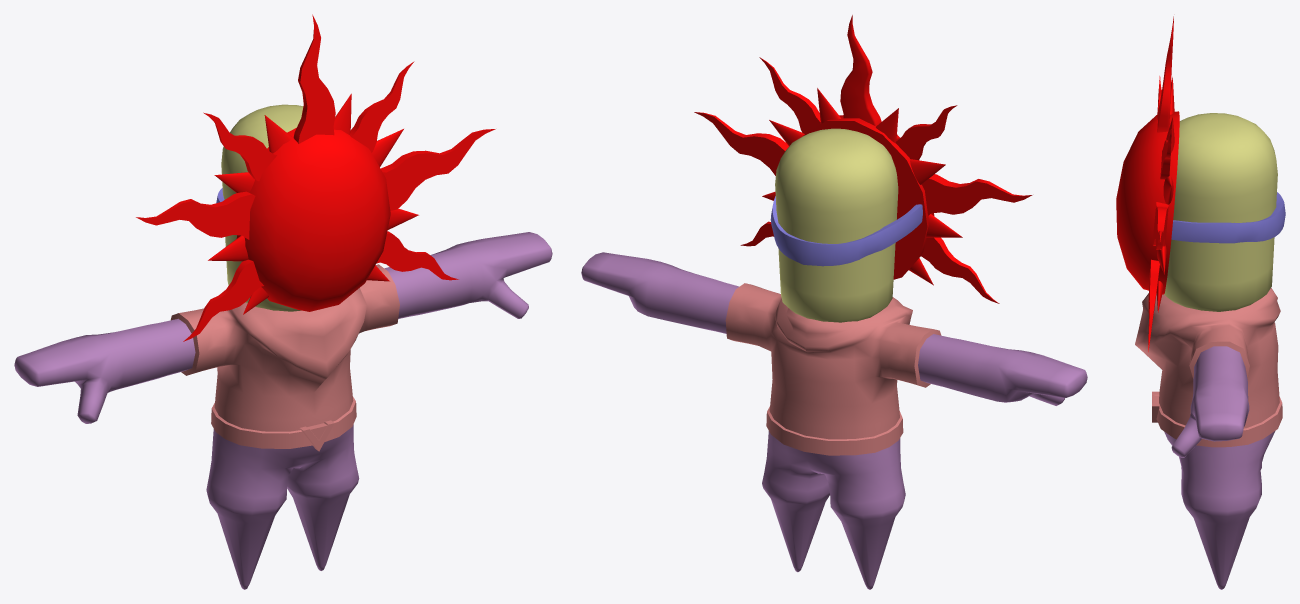
The model's file is Solaris en 2.fbx.
The picture shows the model from 3 angles, left to right: view 1: azimuth 30°, elevation 25°; view 2: azimuth 150°, elevation 25°; view 3: azimuth 270°, elevation 25°; orthographic projection. The views are drawn at different scales.
Parts seen in each view (by area): view 1: Body05; view 2: Body05; view 3: Body05.
Boxes of the visible parts, x1,y1,x2,y2 form: Body05: (14,14,552,589); Body05: (581,15,1087,589); Body05: (1116,16,1285,589).
Bounding box in the file's own units: 149 × 159 × 43.69.
